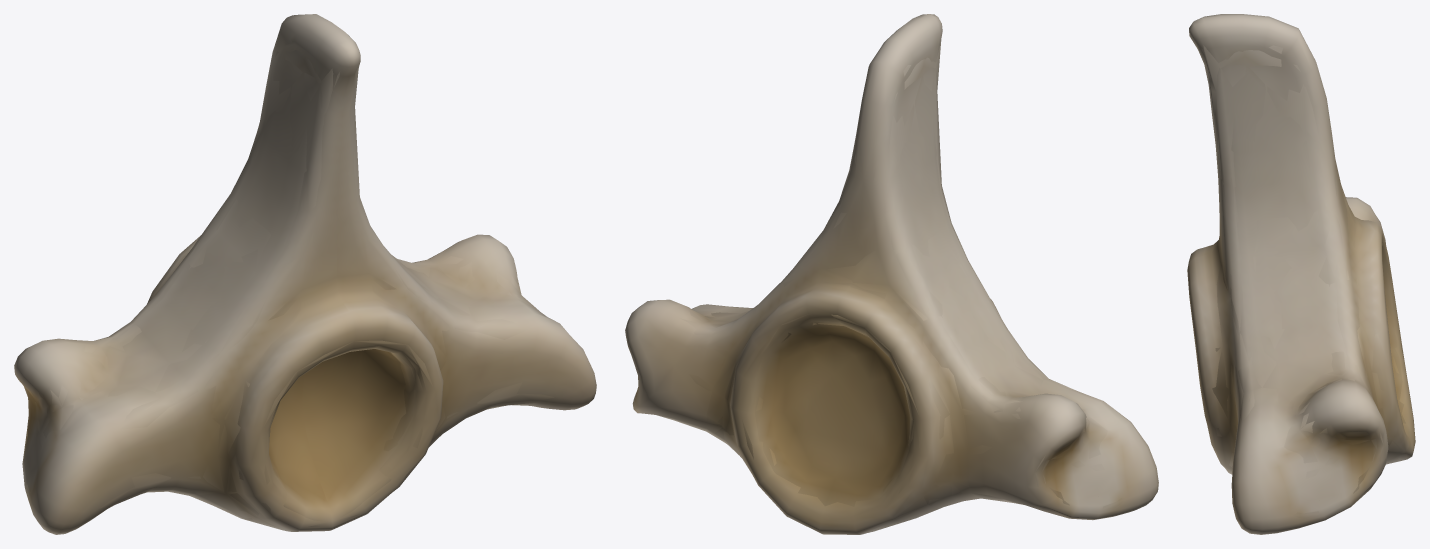
Rendered from vertebrae thoracicae 15.fbx.
The picture shows the model from 3 angles, left to right: view 1: azimuth 30°, elevation 25°; view 2: azimuth 150°, elevation 25°; view 3: azimuth 270°, elevation 25°; orthographic projection. The views are drawn at different scales.
Parts seen in each view (by area): view 1: vertebrae thoracicae 15, vertebrae thoracicae 15 low; view 2: vertebrae thoracicae 15, vertebrae thoracicae 15 low; view 3: vertebrae thoracicae 15, vertebrae thoracicae 15 low.
Part boxes in pixels (bbox=[...]): vertebrae thoracicae 15: bbox=[14, 14, 596, 534]; vertebrae thoracicae 15 low: bbox=[24, 37, 554, 526]; vertebrae thoracicae 15: bbox=[625, 14, 1158, 534]; vertebrae thoracicae 15 low: bbox=[632, 40, 1125, 529]; vertebrae thoracicae 15: bbox=[1187, 14, 1415, 534]; vertebrae thoracicae 15 low: bbox=[1196, 42, 1405, 518].
Size of the model in its own units: 5.91 by 5.23 by 2.38.
Materials: 1 (1 with a texture image).
